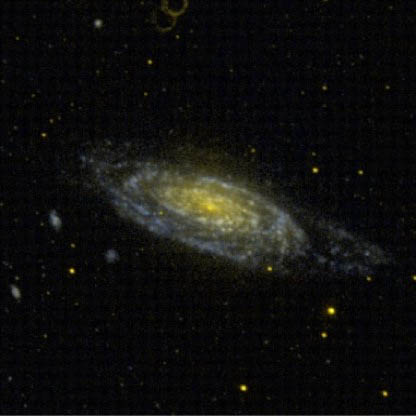NGC 3521: (57, 90, 369, 332)
